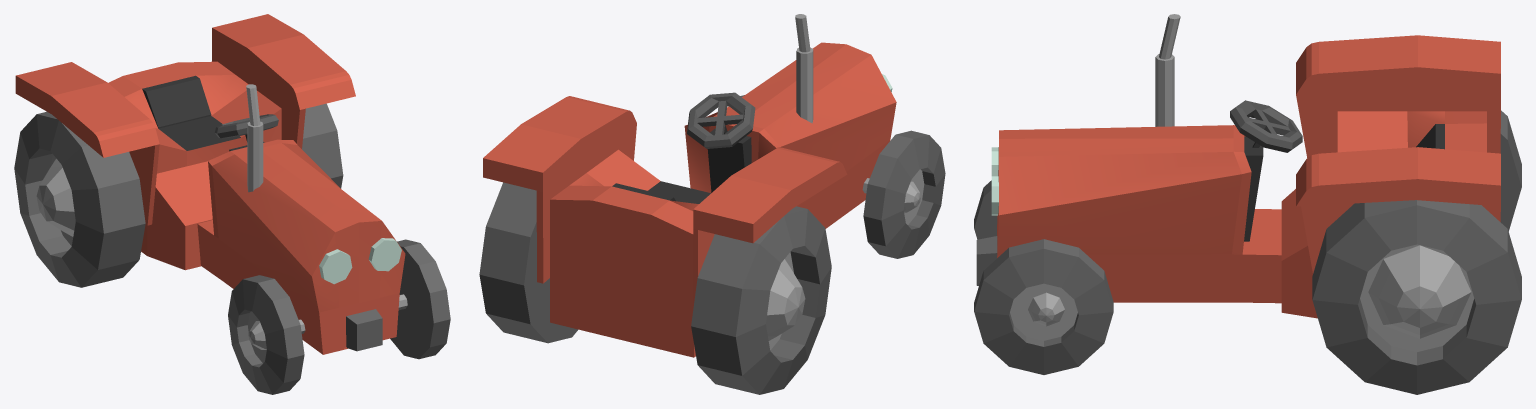
3 views of the same model, side by side, from view 1: azimuth 30°, elevation 25°; view 2: azimuth 150°, elevation 25°; view 3: azimuth 270°, elevation 25° (orthographic). The views are drawn at different scales.
Parts seen in each view (by area): view 1: tractor, tractor rear right wheel, tractor front left wheel, tractor front right wheel, tractor rear left wheel; view 2: tractor, tractor rear right wheel, tractor rear left wheel, tractor front left wheel; view 3: tractor, tractor rear left wheel, tractor front right wheel, tractor rear right wheel, tractor front left wheel.
Part boxes in pixels (bbox=[...]): tractor: bbox=[15, 14, 407, 354]; tractor rear right wheel: bbox=[14, 111, 145, 287]; tractor front left wheel: bbox=[228, 275, 304, 394]; tractor front right wheel: bbox=[390, 239, 450, 359]; tractor rear left wheel: bbox=[302, 103, 343, 188]; tractor: bbox=[483, 14, 896, 357]; tractor rear right wheel: bbox=[691, 206, 831, 394]; tractor rear left wheel: bbox=[479, 182, 578, 343]; tractor front left wheel: bbox=[863, 130, 945, 258]; tractor: bbox=[976, 14, 1500, 318]; tractor rear left wheel: bbox=[1312, 200, 1521, 394]; tractor front right wheel: bbox=[974, 239, 1113, 374]; tractor rear right wheel: bbox=[1500, 110, 1521, 231]; tractor front left wheel: bbox=[974, 180, 997, 239].
Size of the model in its own units: 2.36 by 2.11 by 3.56.
